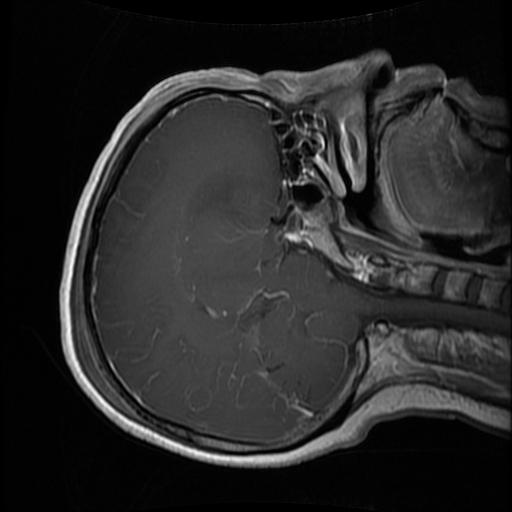glioma: (180, 171, 266, 223)
